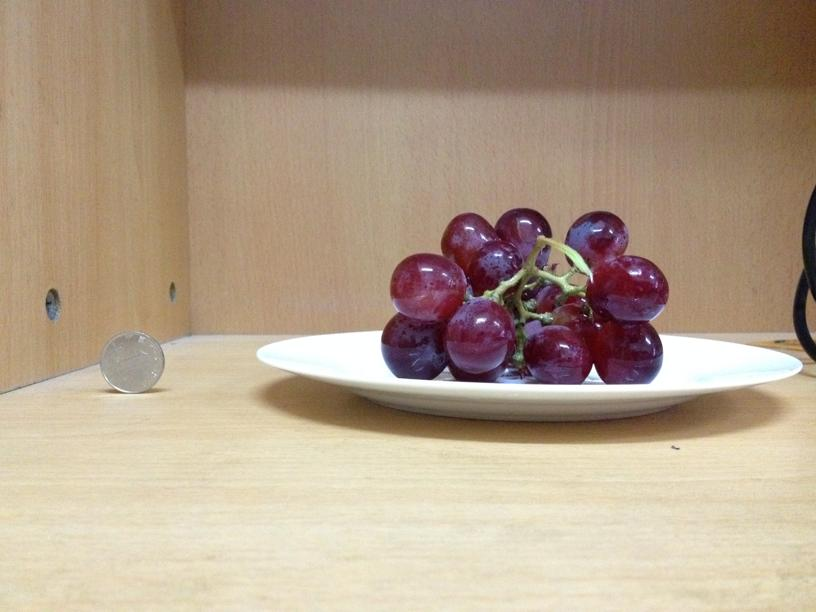coin: (99, 332, 163, 391)
grape: (386, 206, 665, 388)
